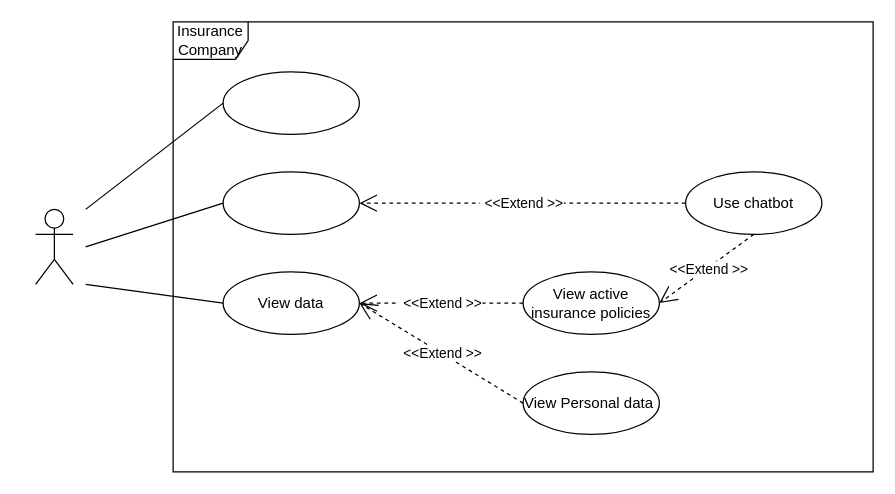
Some shapes in this 895 by 494 pixel diagram are drawn without their labels. Here are the shapes that lost their labels. From the top down, the box of each, then its label:
(222, 71, 359, 134): Log in
(222, 171, 359, 234): View insurance documents
(34, 208, 73, 284): Customer
